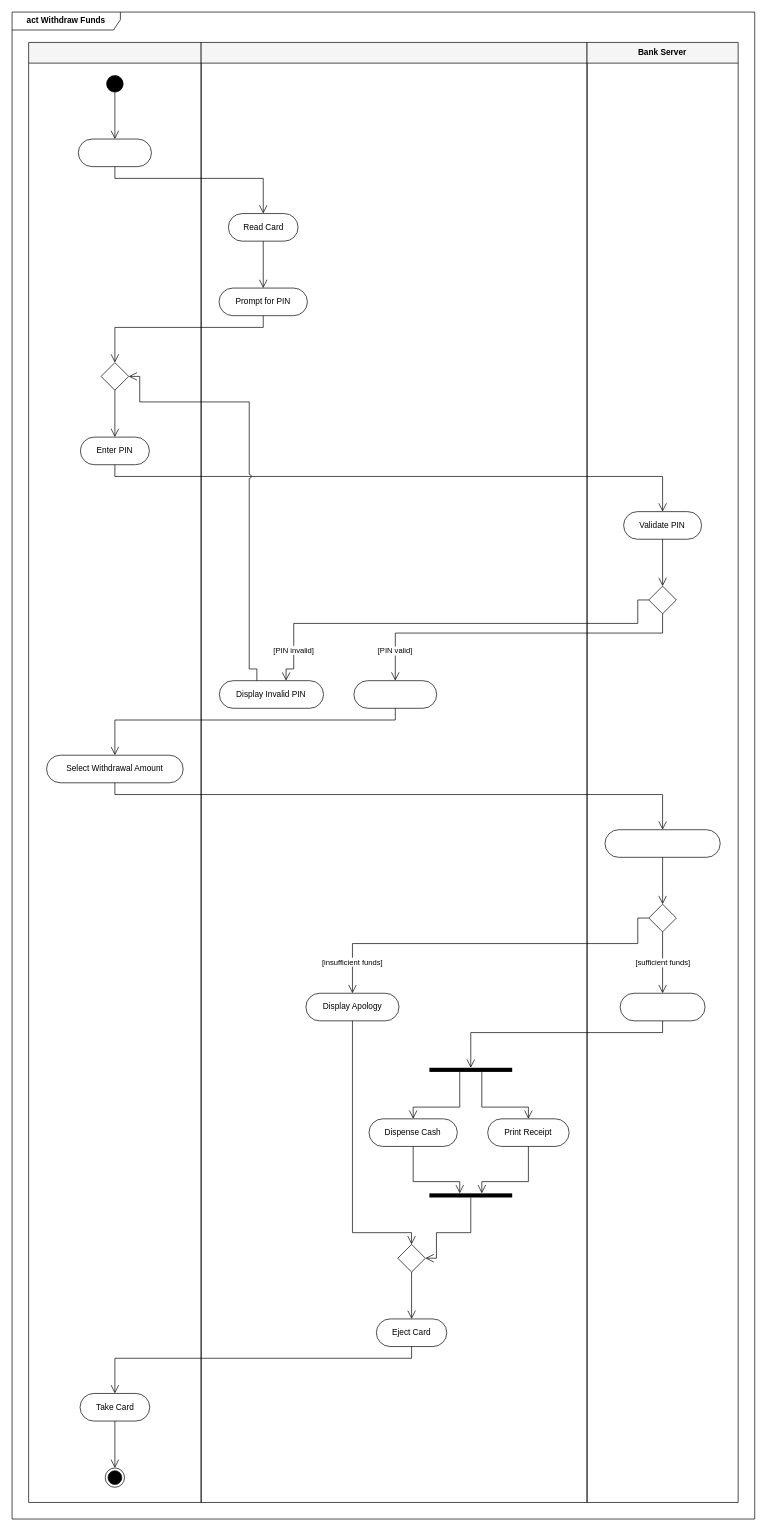
This 767x1531 diagram has some shape labels left out. The box of each missing label's shape, as (x1, y1, x2, y2) in pixels:
ATM: (200, 42, 587, 1502)
ATM Customer: (28, 42, 201, 1502)
Authorize Withdrawal: (604, 829, 720, 857)
Debit Account: (619, 993, 705, 1021)
Display Menu: (353, 680, 437, 708)
Insert Card: (78, 138, 151, 167)
